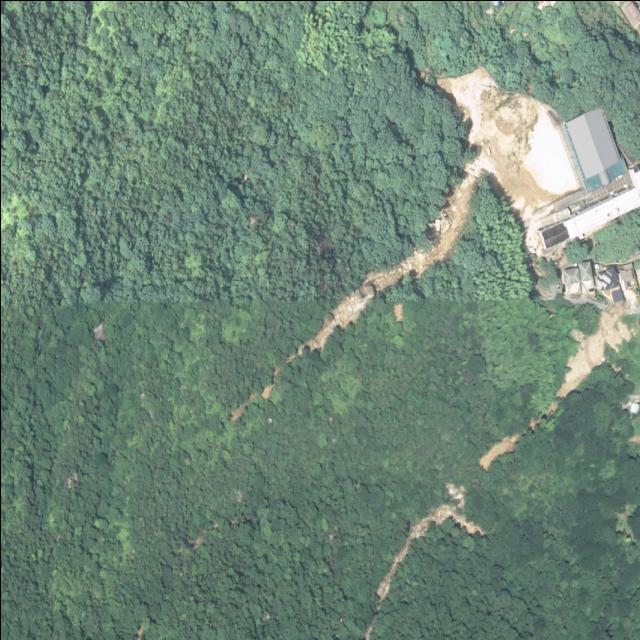landslide: (260, 65, 580, 398)
